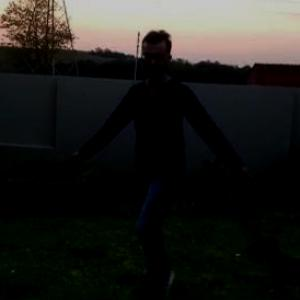land: (78, 30, 234, 286)
